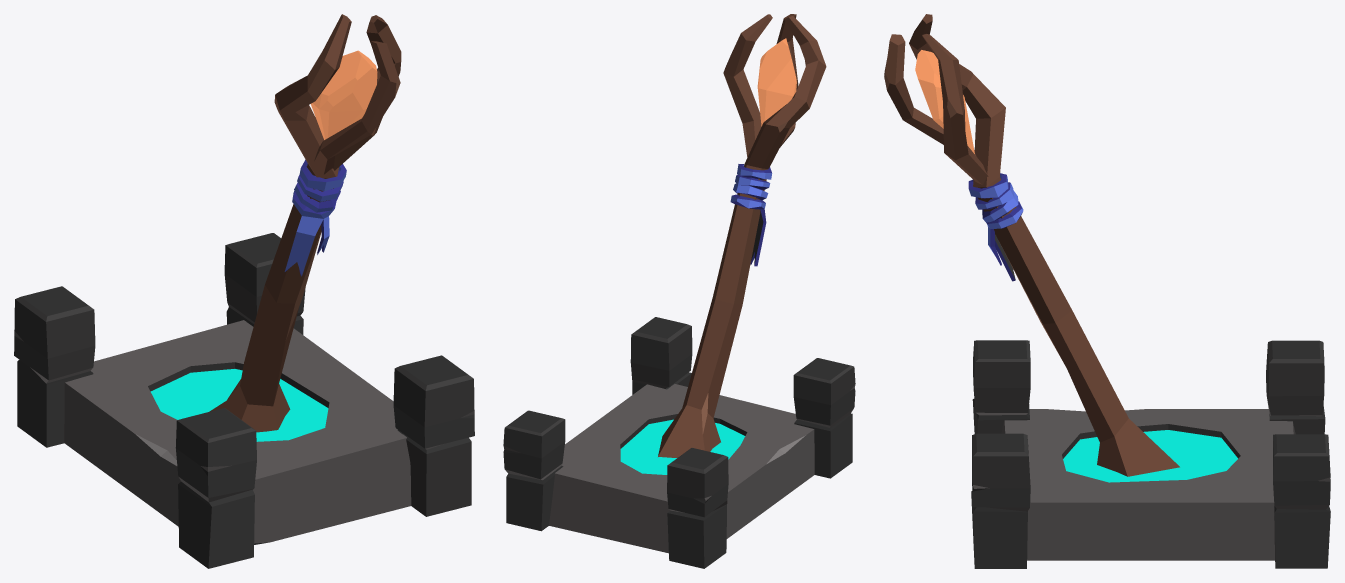
Rendered from Lever_Fantasy.glb.
The picture shows the model from 3 angles, left to right: view 1: azimuth 30°, elevation 25°; view 2: azimuth 150°, elevation 25°; view 3: azimuth 270°, elevation 25°; orthographic projection. The views are drawn at different scales.
Parts seen in each view (by area): view 1: LeverFantasyBase, LeverFantasy; view 2: LeverFantasyBase, LeverFantasy; view 3: LeverFantasyBase, LeverFantasy.
Boxes of the visible parts, x1,y1,x2,y2 form: LeverFantasyBase: (14,233,474,568); LeverFantasy: (209,14,401,432); LeverFantasyBase: (503,317,855,568); LeverFantasy: (658,14,826,457); LeverFantasyBase: (971,340,1330,568); LeverFantasy: (884,14,1179,476).
Size of what is drawn, in the model's own units: 0.6284 by 1.23 by 1.02.
Materials: 2 (2 with a texture image).
